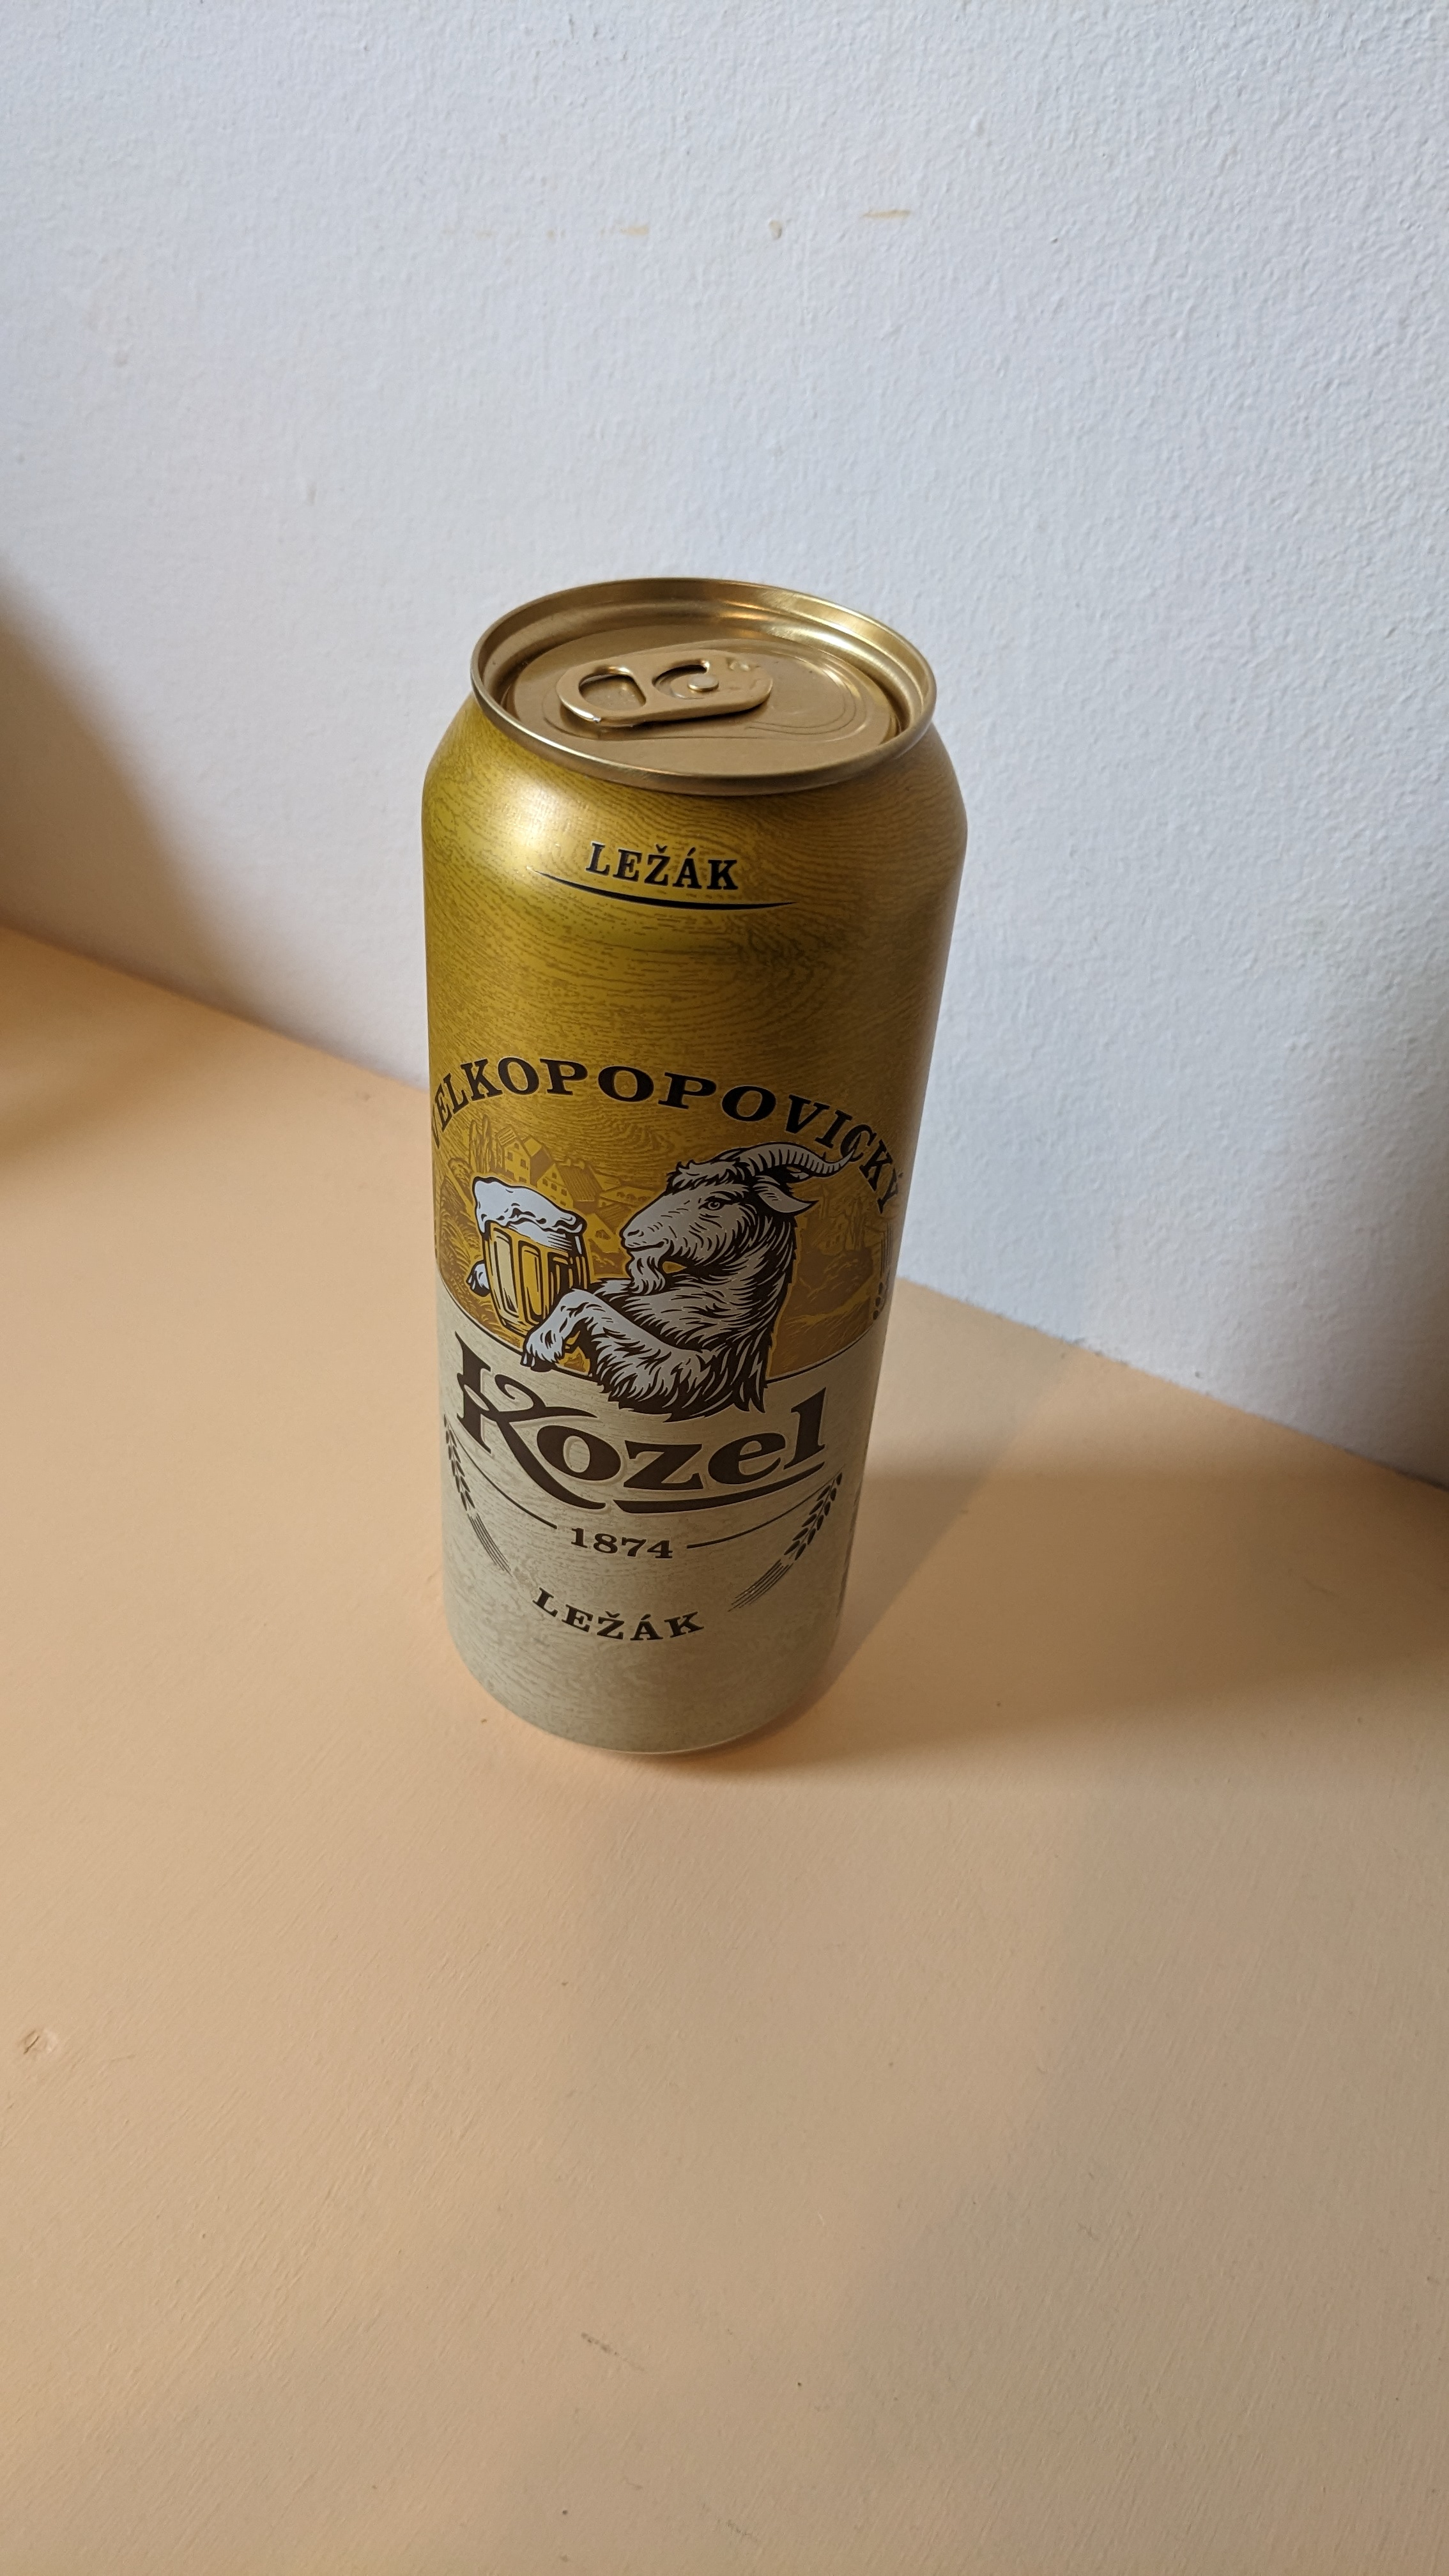kozel: (375, 552, 952, 1792)
